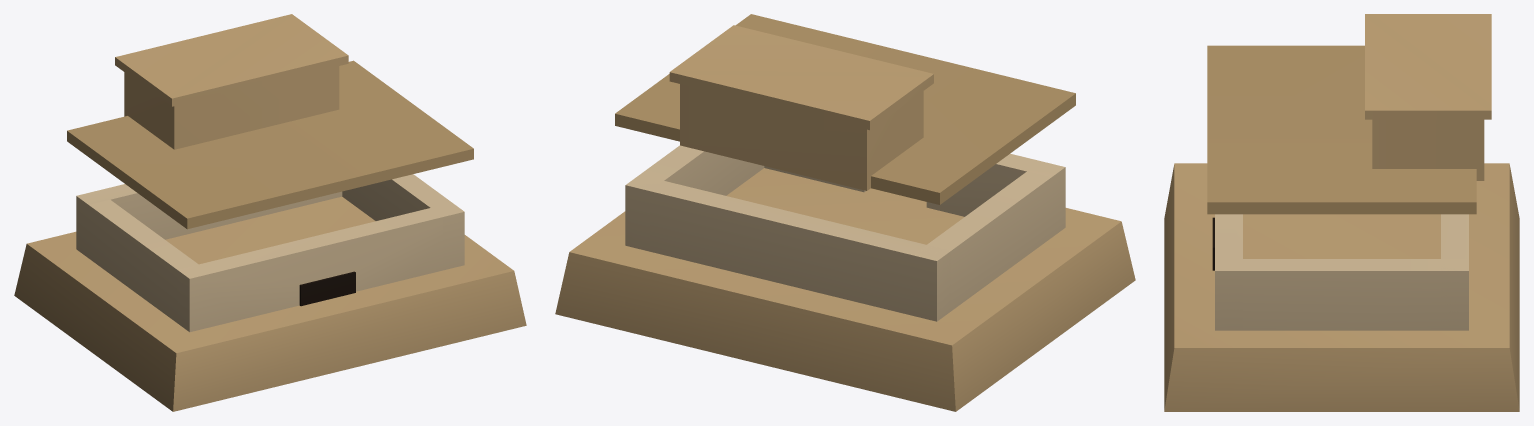
The model's file is moche_audiencia_lod1.glb.
The picture shows the model from 3 angles, left to right: view 1: azimuth 30°, elevation 25°; view 2: azimuth 150°, elevation 25°; view 3: azimuth 270°, elevation 25°; orthographic projection. The views are drawn at different scales.
Visible parts, largest first — view 1: GEO-Arch_moche_audiencia_LOD1; view 2: GEO-Arch_moche_audiencia_LOD1; view 3: GEO-Arch_moche_audiencia_LOD1.
Boxes of the visible parts, box(x1,y1,x2,y2) form: GEO-Arch_moche_audiencia_LOD1: box(14, 14, 526, 411); GEO-Arch_moche_audiencia_LOD1: box(555, 14, 1135, 411); GEO-Arch_moche_audiencia_LOD1: box(1164, 14, 1519, 411).
Size of the model in its own units: 9 by 5.5 by 7.
